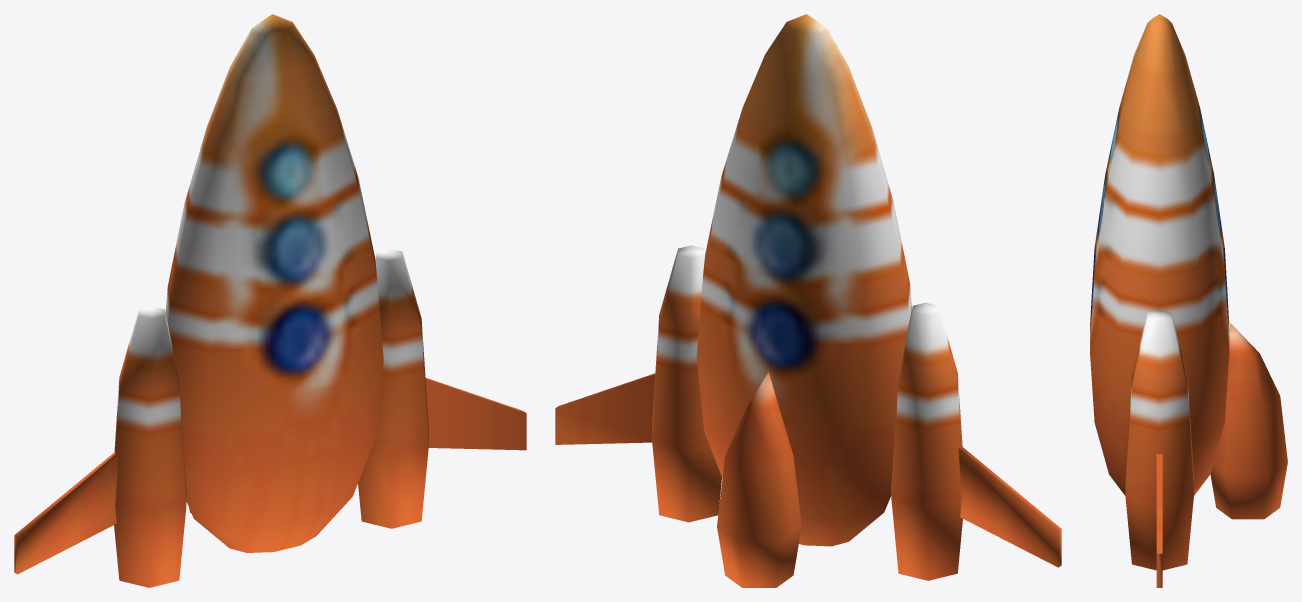
File: icon.ico.obj
3 renders of one model, left to right at view 1: azimuth 30°, elevation 25°; view 2: azimuth 150°, elevation 25°; view 3: azimuth 270°, elevation 25°, orthographic. The views are drawn at different scales.
Bounding box in the file's own units: 4.08 × 4.11 × 1.48.
Materials: 1 (1 with a texture image).
